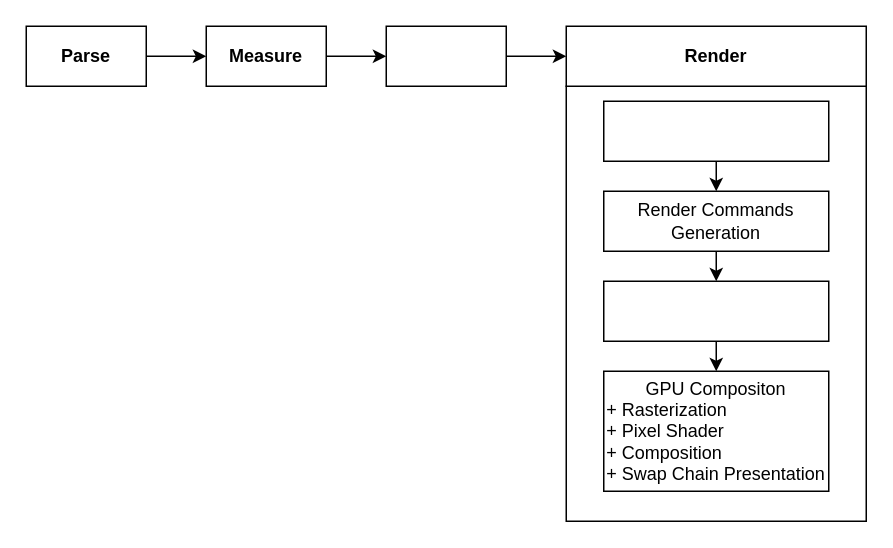
Some shapes in this 893 by 548 pixel diagram are drawn without their labels. Here are the shapes that lost their labels. From the top down, the centre of each, then its label:
At point (445, 55): "Arrange".
At point (715, 130): "Change XAML Tree to Composition Visual Tree".
At point (715, 310): "Render Thread".
